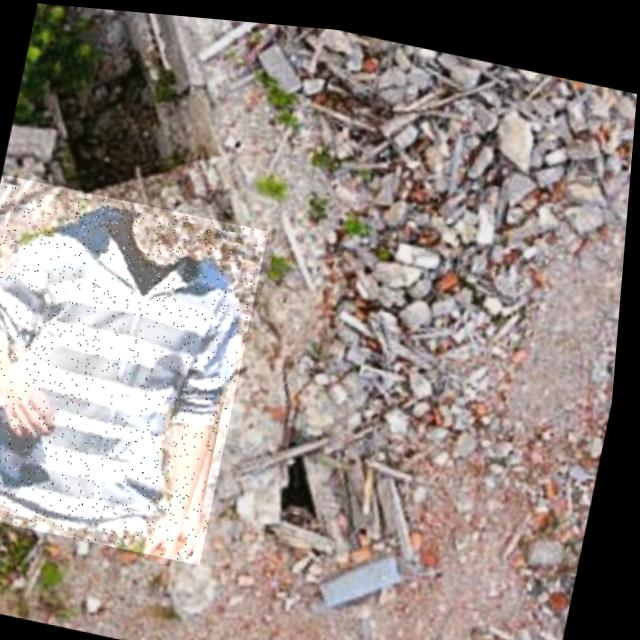Person in Rubble: (0, 173, 273, 563)
